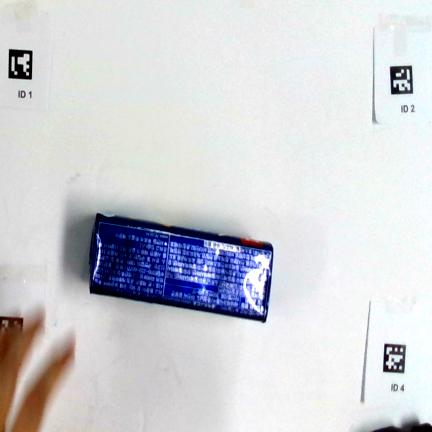cracker_ace: (88, 213, 275, 324)
